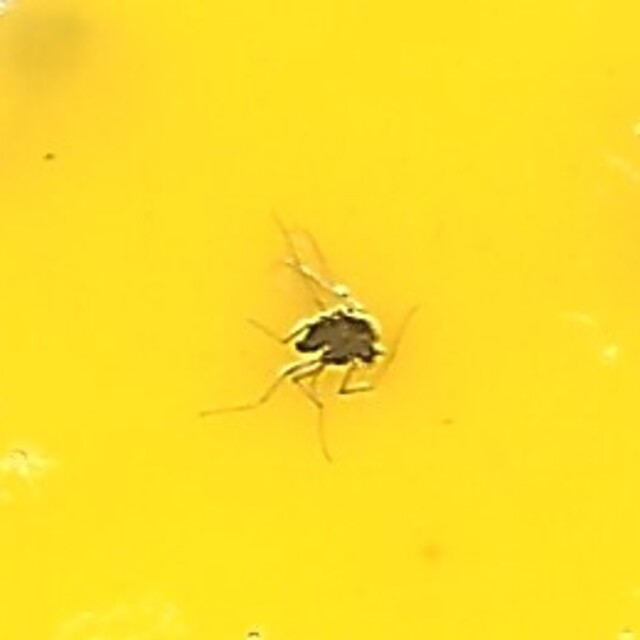Nematocera: (246, 243, 394, 397)
